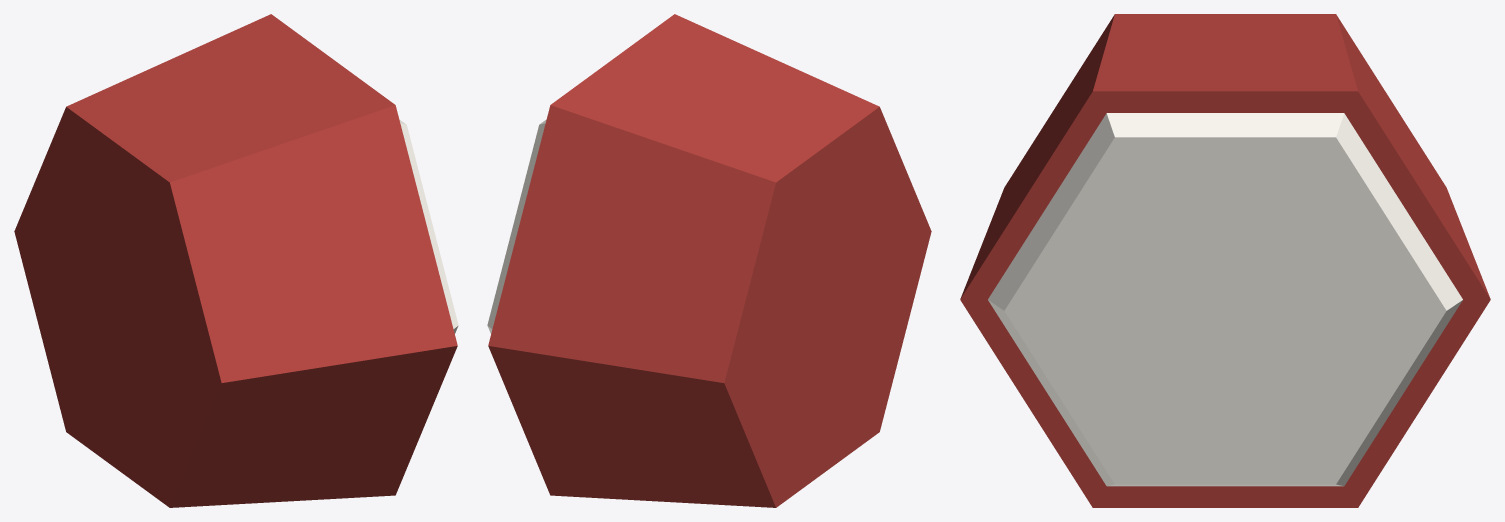
File: rally_lod2.glb
3 views of the same model, side by side, from view 1: azimuth 30°, elevation 25°; view 2: azimuth 150°, elevation 25°; view 3: azimuth 270°, elevation 25° (orthographic). The views are drawn at different scales.
Parts seen in each view (by area): view 1: rally_lod2; view 2: rally_lod2; view 3: rally_lod2.
Part boxes in pixels (x1,y1,x2,y2): rally_lod2: (14,14,458,507); rally_lod2: (487,14,931,507); rally_lod2: (960,14,1490,507).
Bounding box in the file's own units: 0.066 × 0.1039 × 0.12.
